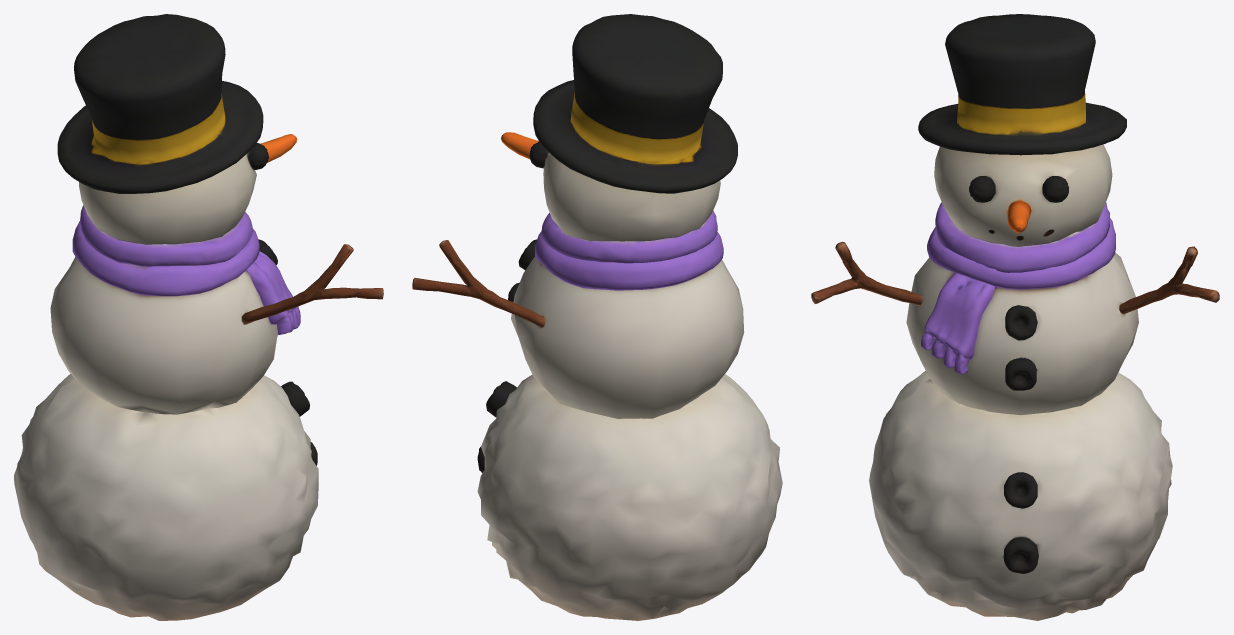
File: r33-snowman.glb
3 views of the same model, side by side, from view 1: azimuth 30°, elevation 25°; view 2: azimuth 150°, elevation 25°; view 3: azimuth 270°, elevation 25° (orthographic).
Visible parts, largest first — view 1: tripo_node_9d427a57-13da-4368-b2be-577527ee1fd9; view 2: tripo_node_9d427a57-13da-4368-b2be-577527ee1fd9; view 3: tripo_node_9d427a57-13da-4368-b2be-577527ee1fd9.
Boxes of the visible parts, x1,y1,x2,y2 form: tripo_node_9d427a57-13da-4368-b2be-577527ee1fd9: [14, 14, 383, 620]; tripo_node_9d427a57-13da-4368-b2be-577527ee1fd9: [412, 14, 782, 620]; tripo_node_9d427a57-13da-4368-b2be-577527ee1fd9: [811, 14, 1219, 620].
Size of the model in its own units: 0.5215 by 0.998 by 0.6621.
1 material, 1 textured.
